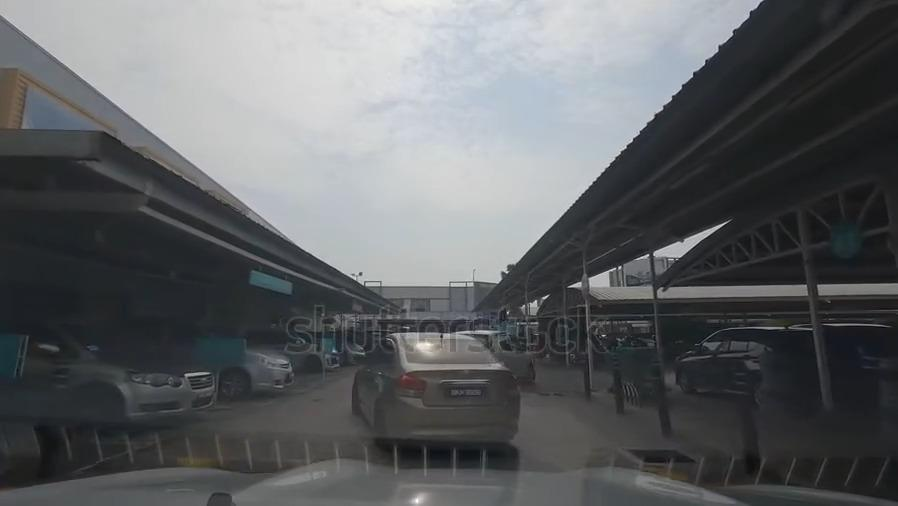car: (349, 333, 509, 447), (0, 336, 220, 415), (671, 332, 858, 398), (99, 332, 296, 391), (473, 331, 541, 382), (275, 338, 341, 371), (345, 342, 363, 362)
manhole: (625, 445, 699, 471), (537, 388, 569, 401)
speedbump: (93, 455, 769, 475)
wheel: (76, 383, 121, 430), (220, 368, 248, 395), (373, 400, 387, 448), (302, 351, 322, 376)
